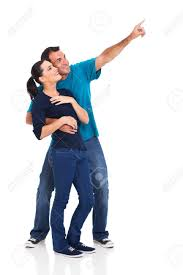hand: (128, 15, 153, 45)
